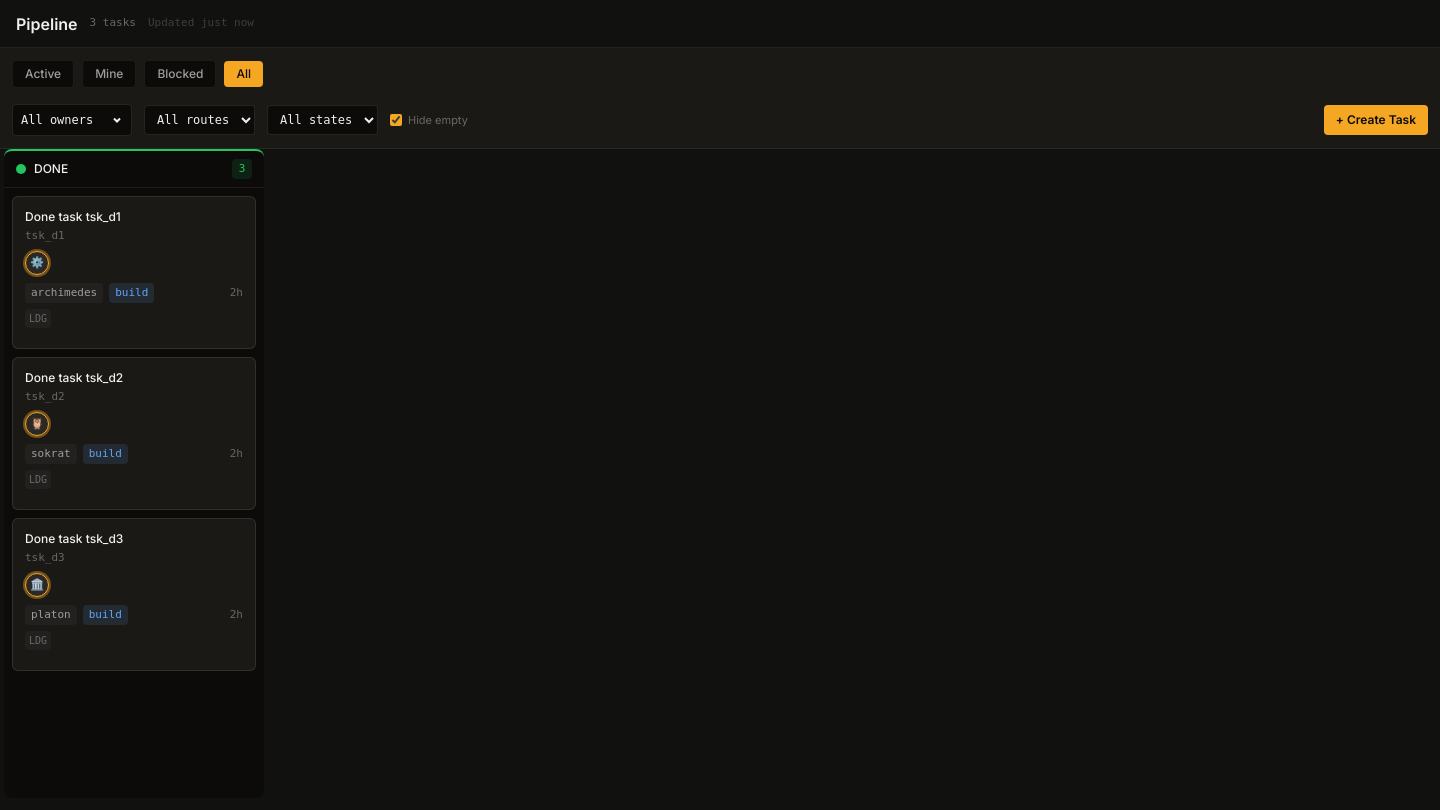
Pipeline — filtered-empty state (#148) › switching to Blocked preset shows filtered-empty state when no error tasks exist
Switch to Blocked preset — no matching tasks
Click the button "Blocked" at (180,74), box [144,60,216,88]
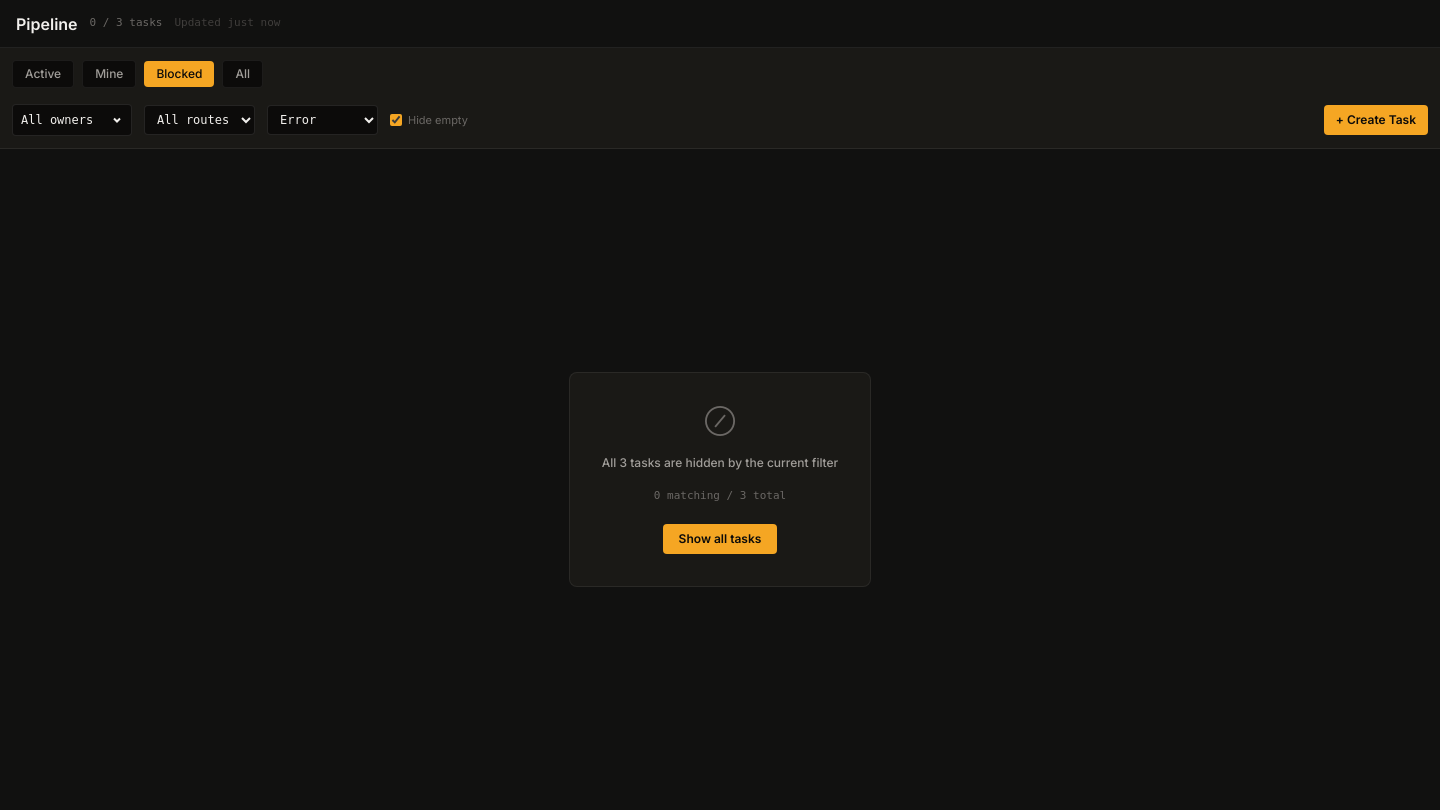
Expected: the element with test id "filtered-empty-state" is shown, [569,372,871,587]
Expected: the text "All 3 tasks are hidden by the current filter" is shown, [602,454,838,472]
